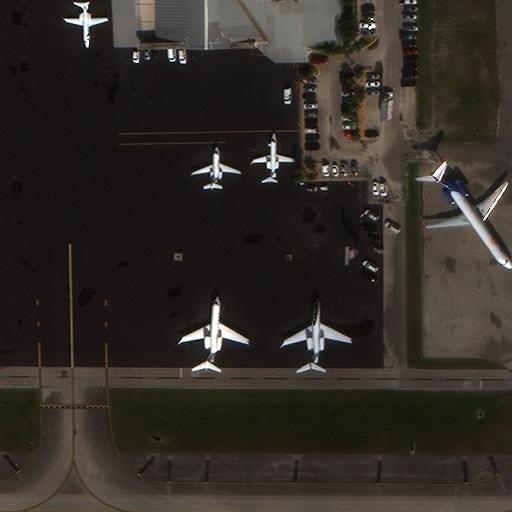Medium Civil Transport: (424, 173, 511, 269), (283, 290, 351, 370), (180, 295, 249, 370), (188, 145, 241, 190), (249, 132, 294, 183)
Small Civil Transport: (66, 1, 107, 48)
